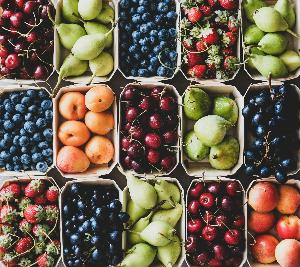apricot: (56, 88, 117, 182), (246, 182, 300, 267)
grape: (244, 82, 300, 178), (114, 0, 180, 80), (0, 85, 56, 177), (61, 182, 118, 267)
pear: (181, 83, 245, 177), (123, 178, 184, 267), (54, 0, 120, 81), (242, 2, 300, 82)
strawberry: (0, 182, 62, 267), (179, 1, 240, 84)
